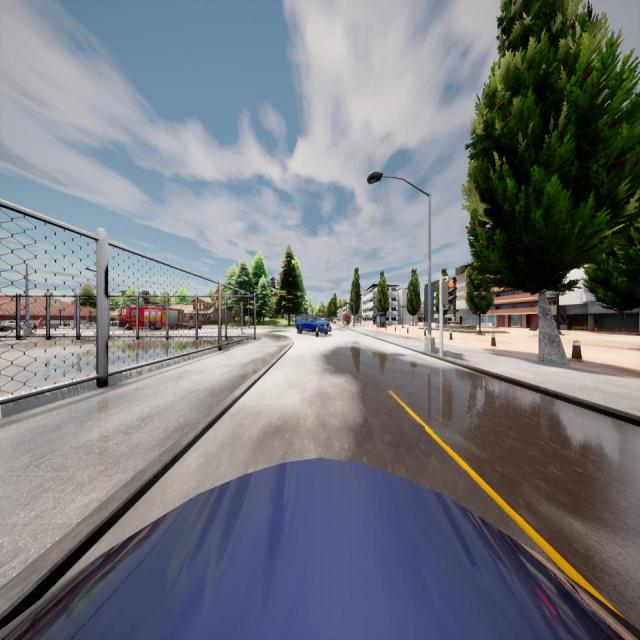Pedestrian: (39, 317, 44, 329)
Vehicle: (0, 459, 640, 640), (120, 305, 182, 330), (295, 315, 331, 336), (0, 319, 22, 330), (182, 318, 202, 328)
traffic_light: (441, 281, 457, 304), (238, 306, 242, 316)
